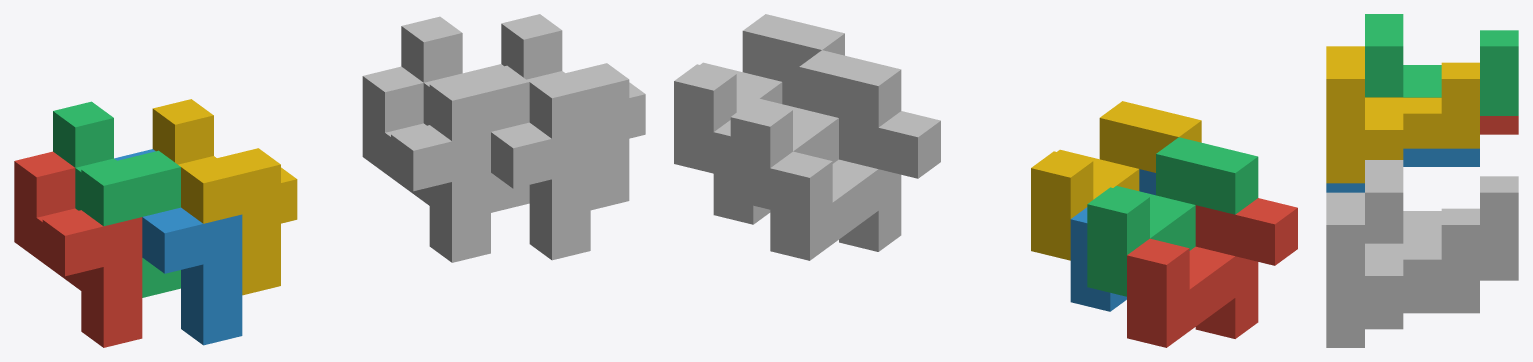
The model's file is tiling.obj.
3 views of the same model, side by side, from view 1: azimuth 30°, elevation 25°; view 2: azimuth 150°, elevation 25°; view 3: azimuth 270°, elevation 25° (orthographic). The views are drawn at different scales.
Parts seen in each view (by area): view 1: copy_1_domain_1, copy_1_domain_5, copy_1_domain_8, copy_1_domain_4, copy_1_domain_7, copy_1_domain_3, copy_1_domain_2, copy_1_domain_6; view 2: copy_1_domain_1, copy_1_domain_5, copy_1_domain_7, copy_1_domain_3, copy_1_domain_8, copy_1_domain_4, copy_1_domain_6, copy_1_domain_2; view 3: copy_1_domain_8, copy_1_domain_4, copy_1_domain_3, copy_1_domain_7, copy_1_domain_6, copy_1_domain_2, copy_1_domain_1, copy_1_domain_5.
Boxes of the visible parts, x1,y1,x2,y2 form: copy_1_domain_1: (14, 151, 142, 347); copy_1_domain_5: (362, 66, 490, 262); copy_1_domain_8: (501, 14, 645, 210); copy_1_domain_4: (152, 99, 297, 295); copy_1_domain_7: (401, 16, 529, 212); copy_1_domain_3: (53, 101, 180, 297); copy_1_domain_2: (114, 149, 242, 345); copy_1_domain_6: (463, 64, 590, 260); copy_1_domain_1: (1127, 198, 1297, 347); copy_1_domain_5: (770, 111, 940, 260); copy_1_domain_7: (730, 50, 901, 209); copy_1_domain_3: (1087, 137, 1258, 296); copy_1_domain_8: (674, 14, 844, 173); copy_1_domain_4: (1031, 101, 1201, 260); copy_1_domain_6: (713, 82, 799, 224); copy_1_domain_2: (1070, 169, 1155, 311); copy_1_domain_8: (1326, 192, 1479, 329); copy_1_domain_4: (1326, 46, 1479, 183); copy_1_domain_3: (1365, 14, 1518, 115); copy_1_domain_7: (1365, 160, 1518, 261); copy_1_domain_6: (1326, 294, 1479, 347); copy_1_domain_2: (1326, 148, 1479, 192); copy_1_domain_1: (1480, 116, 1518, 134); copy_1_domain_5: (1480, 262, 1518, 280).
Bounding box in the file's own units: 15 × 4 × 5.
